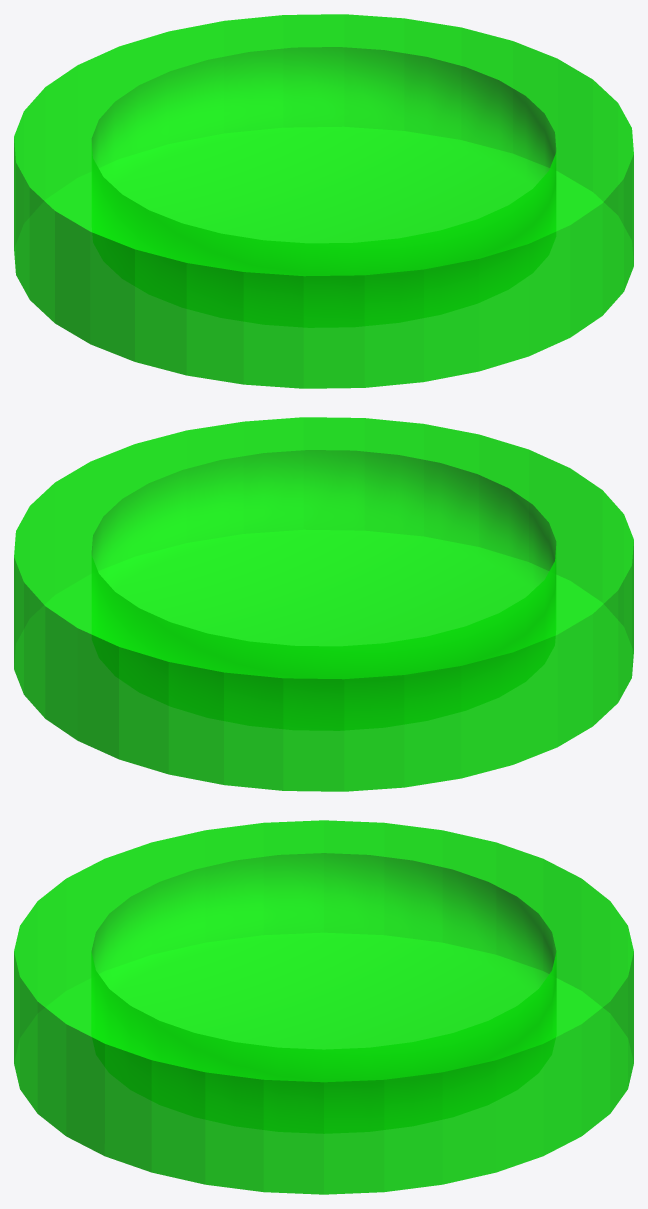
Rendered from GreenNotePlayer.obj.
3 renders of one model, top to bottom at view 1: azimuth 30°, elevation 25°; view 2: azimuth 150°, elevation 25°; view 3: azimuth 270°, elevation 25°, orthographic.
Parts seen in each view (by area): view 1: Cylinder; view 2: Cylinder; view 3: Cylinder.
Part boxes in pixels (bbox=[...]): Cylinder: bbox=[14, 14, 633, 388]; Cylinder: bbox=[14, 417, 633, 791]; Cylinder: bbox=[14, 820, 633, 1194].
Size of the model in its own units: 2 by 0.4 by 2.
